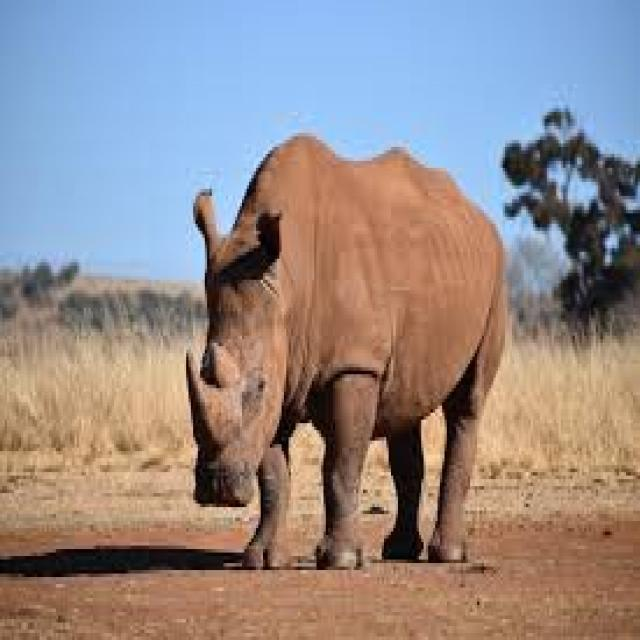rhinoceros: (186, 133, 505, 563)
